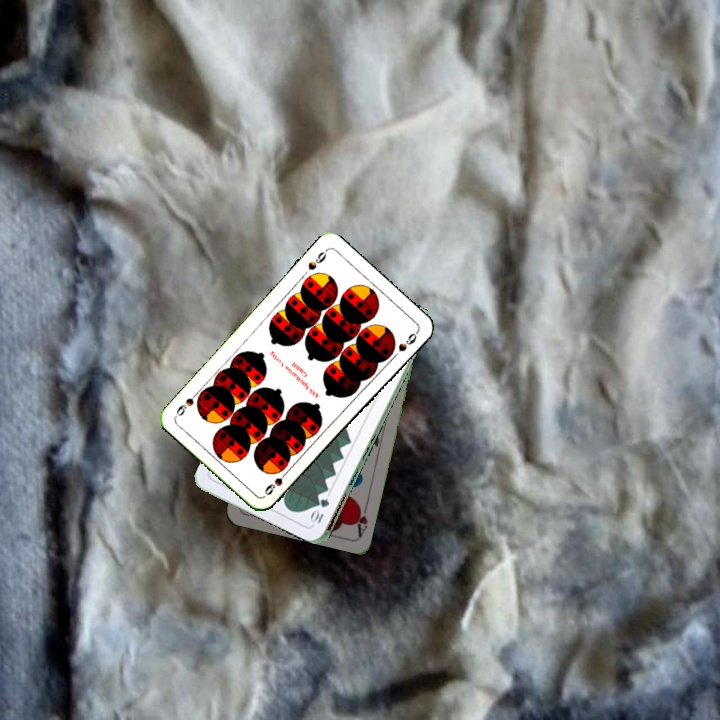G10: (309, 494, 332, 526)
HA: (350, 498, 371, 538)
S9: (260, 465, 292, 498), (304, 245, 330, 273)
